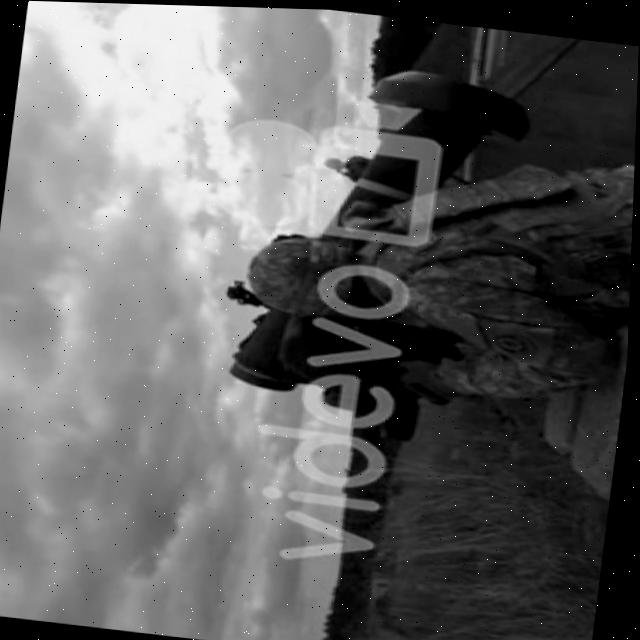rocket: (229, 55, 512, 407)
